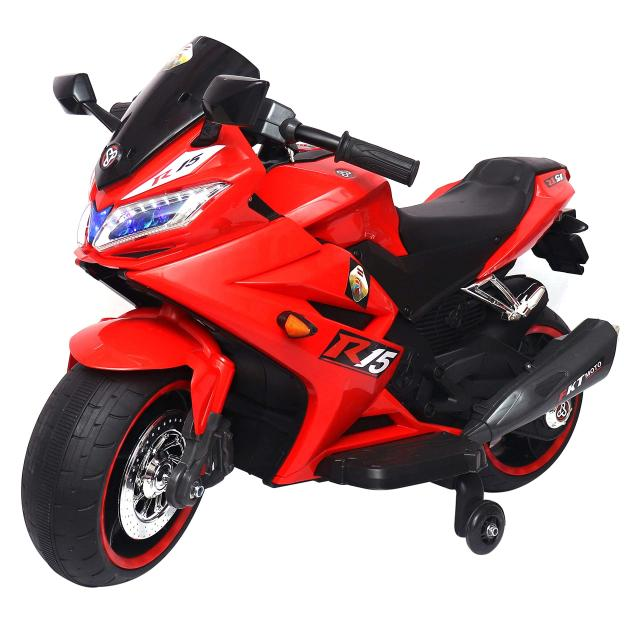Bike: (21, 39, 608, 591)
